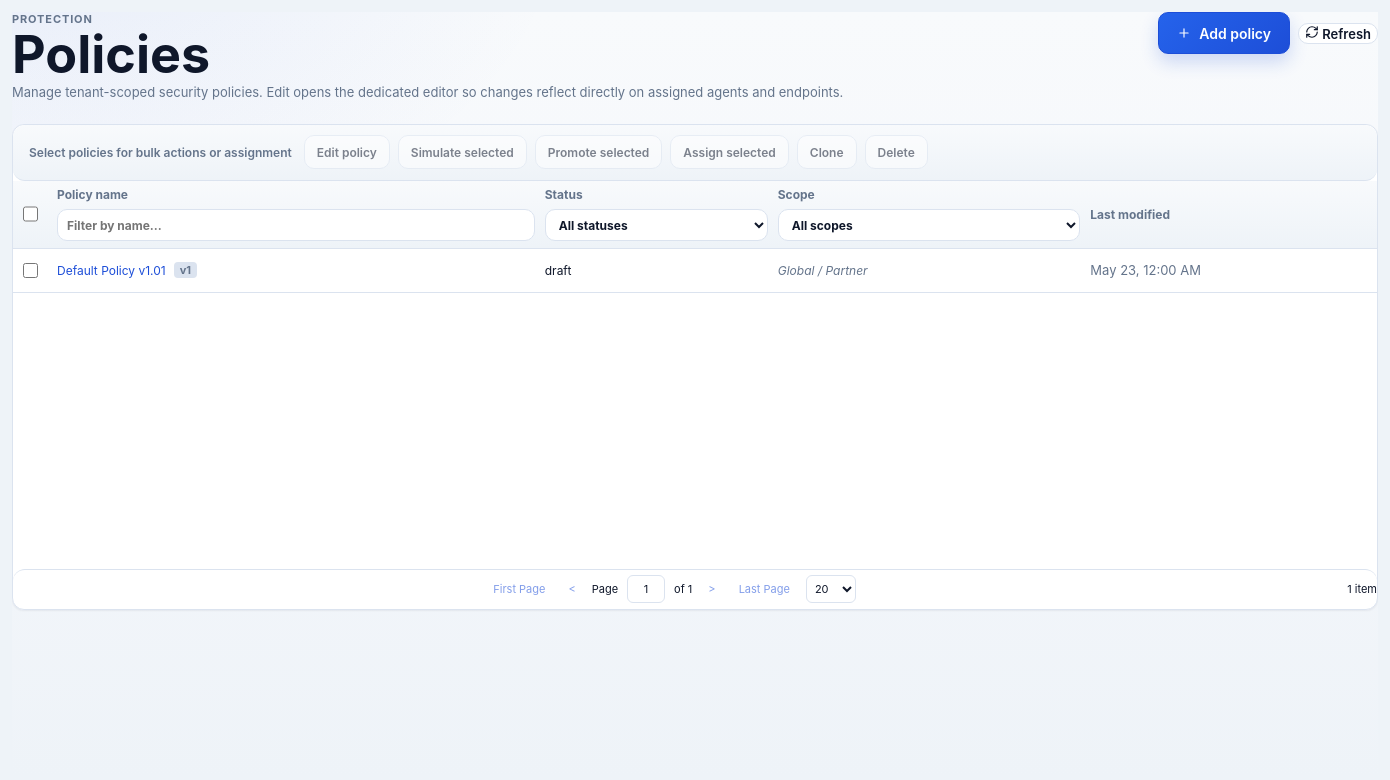
Test case: PolicyPage › toggles selection and enables one-policy actions
Expected: the button "Default Policy v1.01" is shown, [57,263,166,278]
Expected: the button "Edit policy" is disabled, [304,135,390,169]
What coordinates should you click on to do the following:
click the label named "Select Default Policy v1.01"
I would click on:
 (30, 270)
Its box is [23,263,38,278].
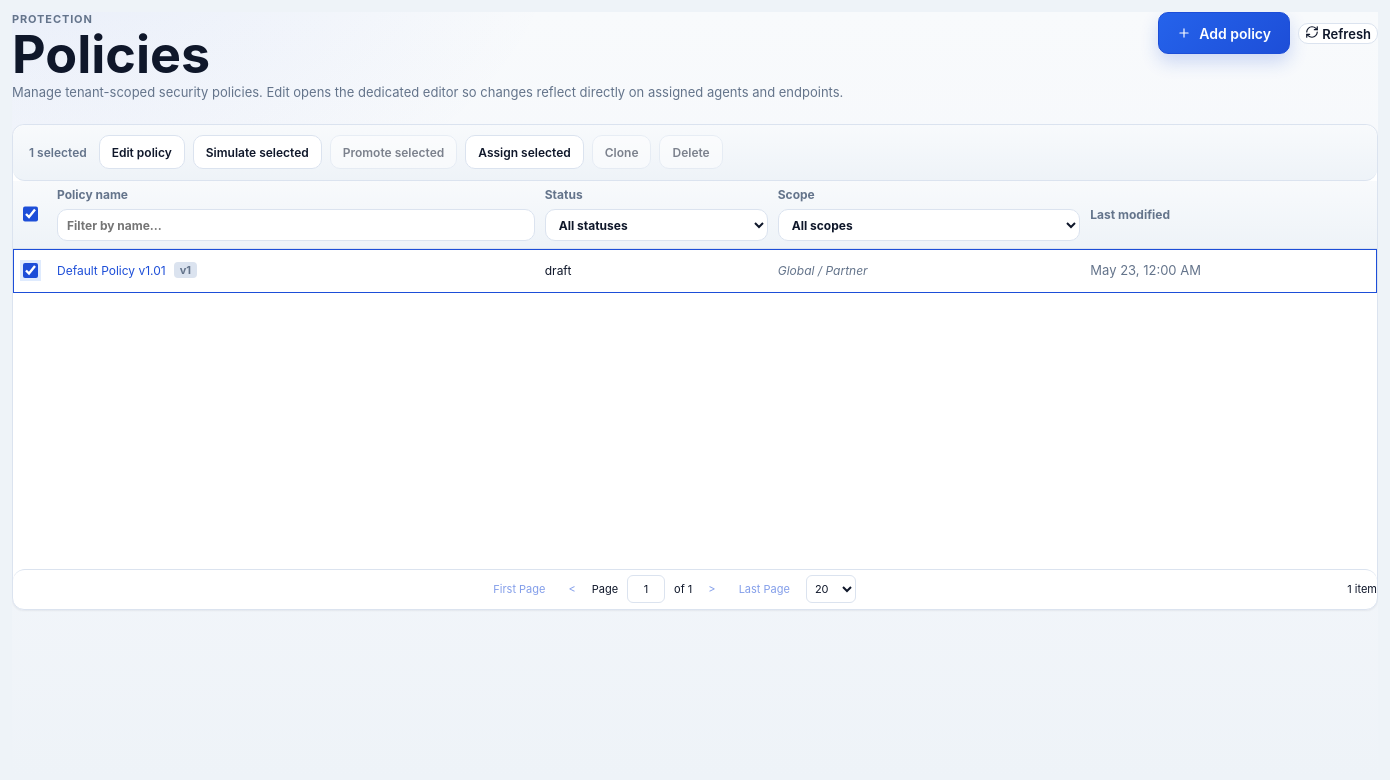
Result: the button "Edit policy" is enabled at [99,135,185,169]
Result: the button "Simulate selected" is enabled at [193,135,322,169]
Result: the button "Assign selected" is enabled at [465,135,584,169]
